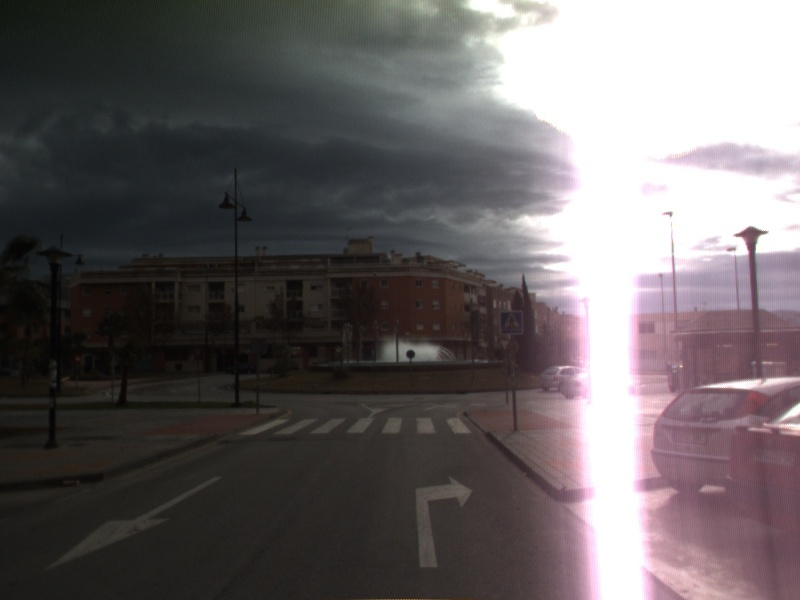RIGHT: (413, 473, 475, 570)
